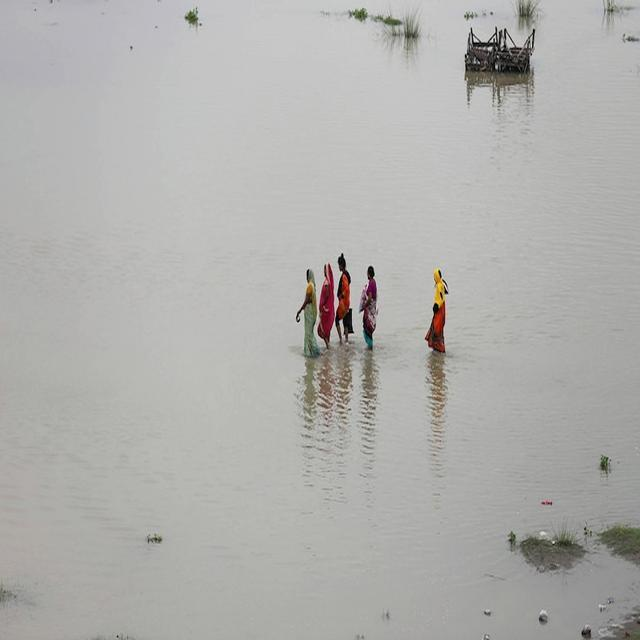Person-RiskLevel2: (420, 266, 461, 365), (290, 266, 322, 355), (359, 264, 386, 353), (334, 252, 357, 347), (318, 258, 339, 361)
